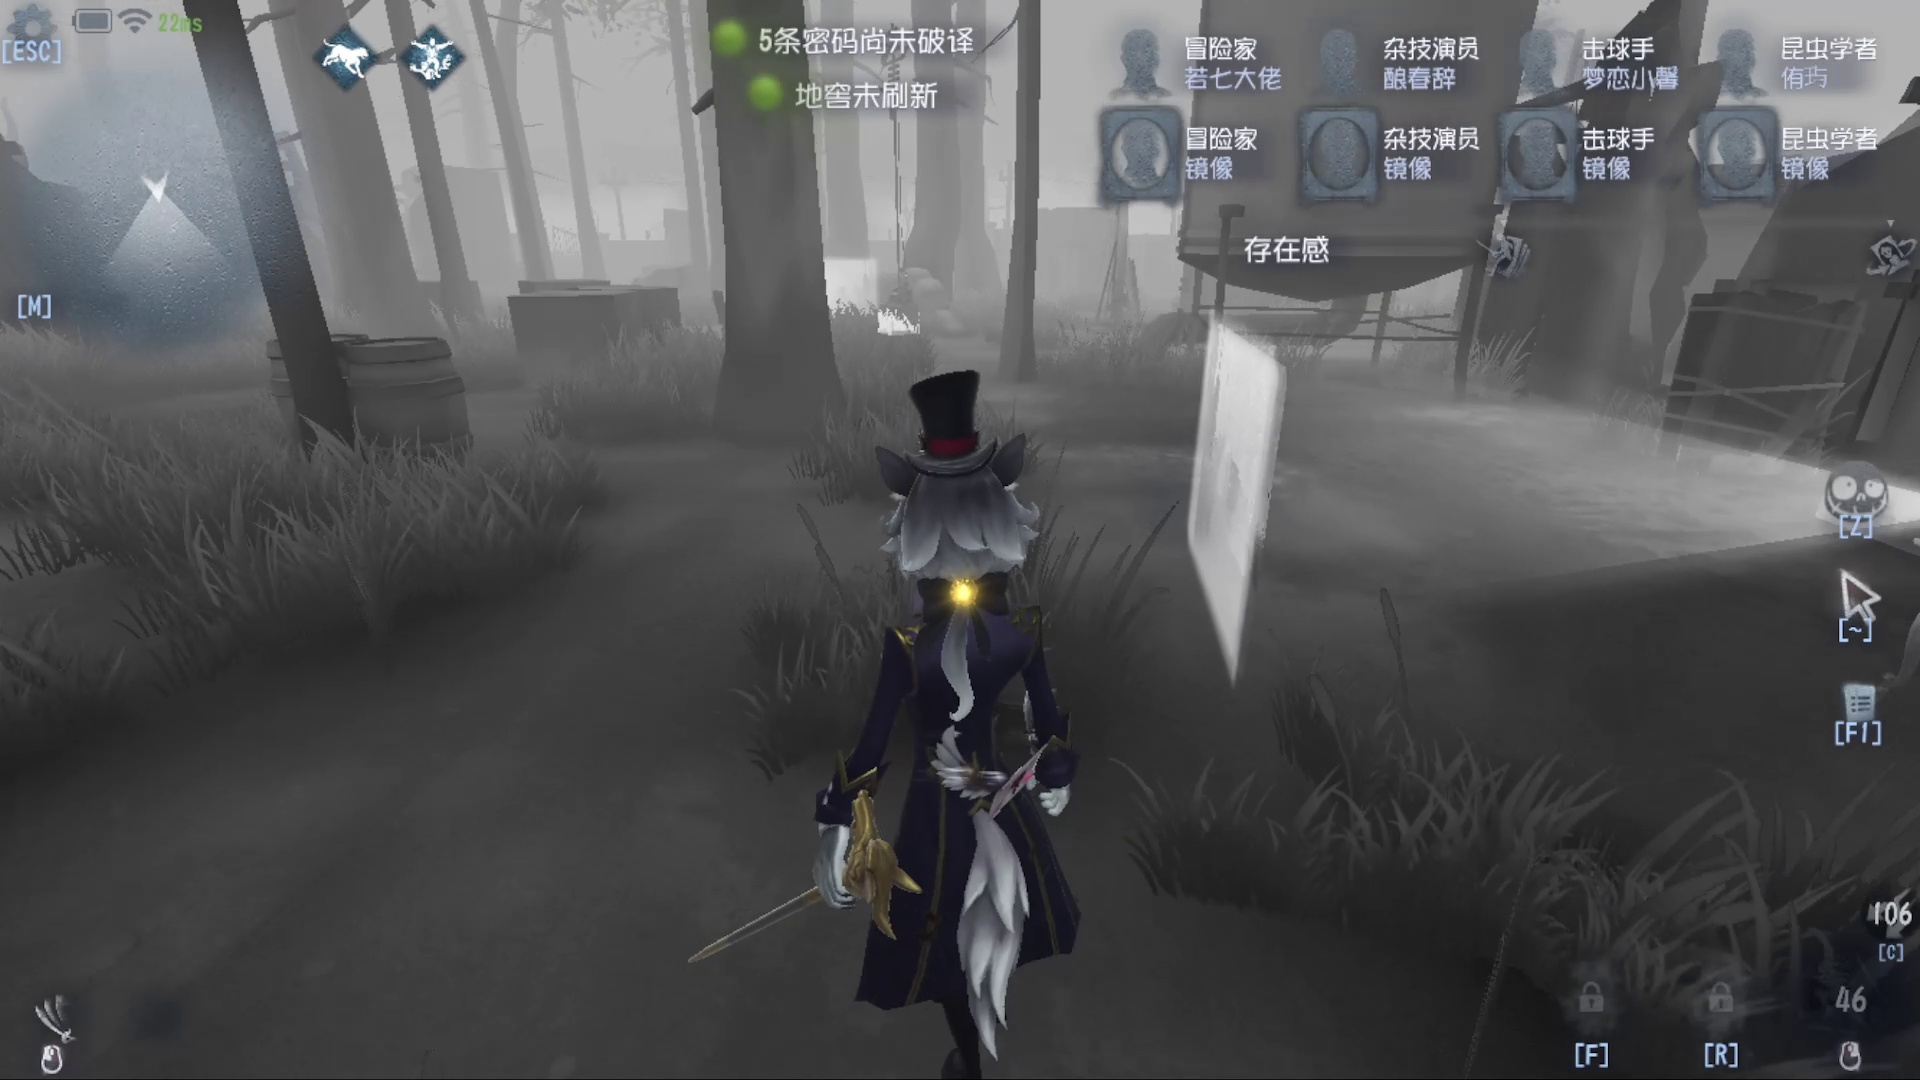密码机: (872, 30, 934, 335)
